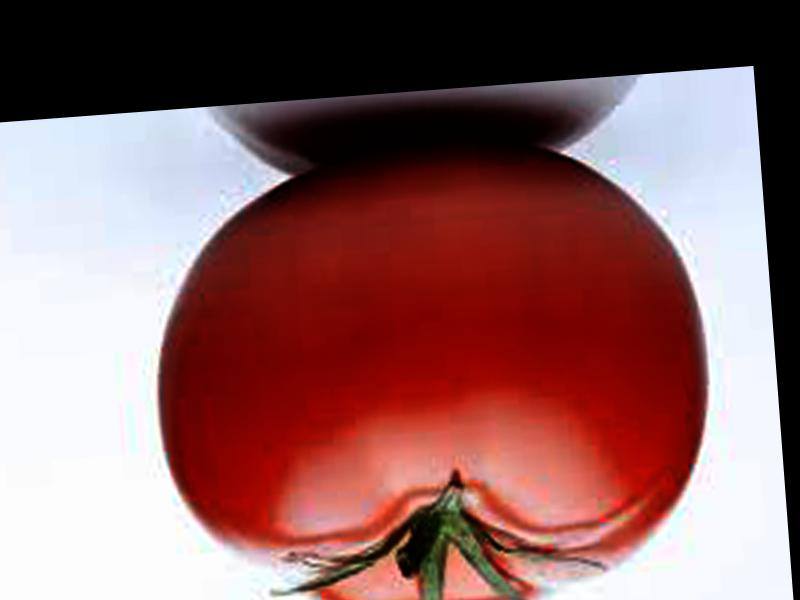Tomato: (144, 131, 724, 600)
